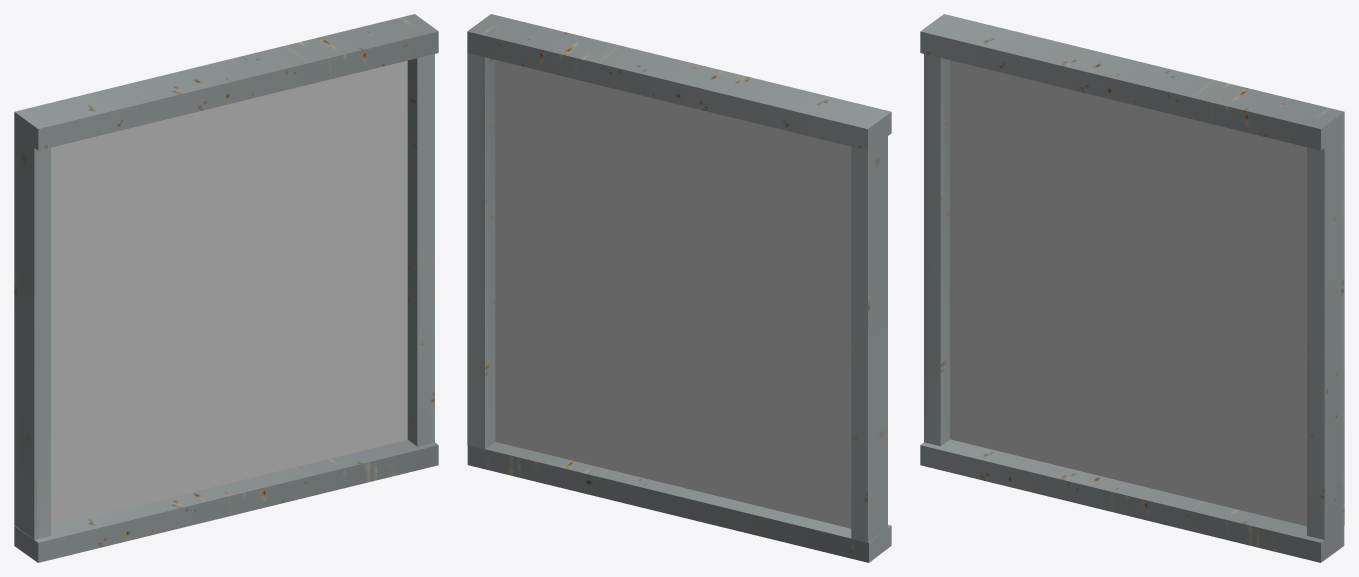
File: bil_window_a3_17.fbx
3 renders of one model, left to right at view 1: azimuth 30°, elevation 25°; view 2: azimuth 150°, elevation 25°; view 3: azimuth 330°, elevation 25°, orthographic.
Visible parts, largest first — view 1: bil_window_a3_17; view 2: bil_window_a3_17; view 3: bil_window_a3_17.
Boxes of the visible parts, x1,y1,x2,y2 form: bil_window_a3_17: (14, 14, 438, 562); bil_window_a3_17: (467, 14, 891, 562); bil_window_a3_17: (920, 14, 1344, 562).
Size of the model in its own units: 121 by 125 by 12.5.
